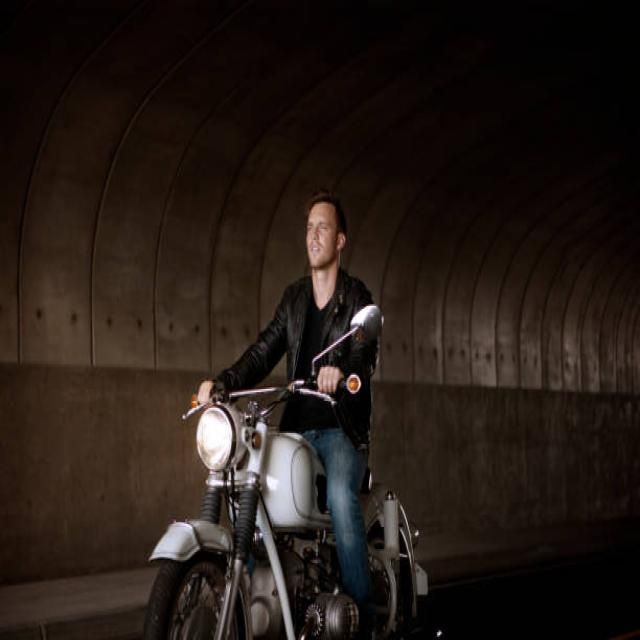No-Helmet: (300, 184, 350, 274)
